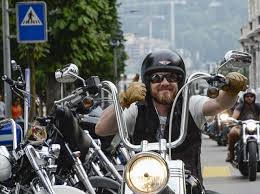helmet: (138, 47, 190, 108)
